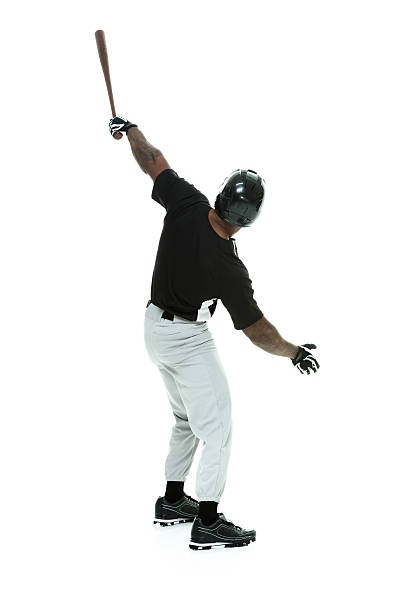bita: (93, 21, 127, 137)
